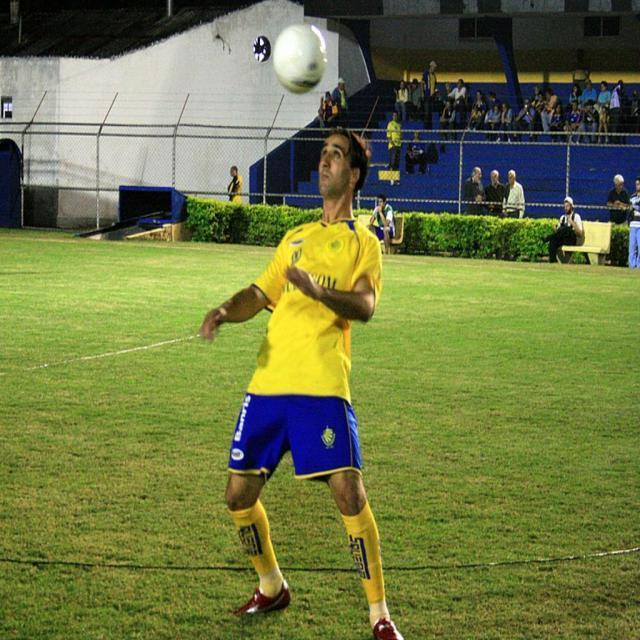football: (257, 21, 344, 106)
